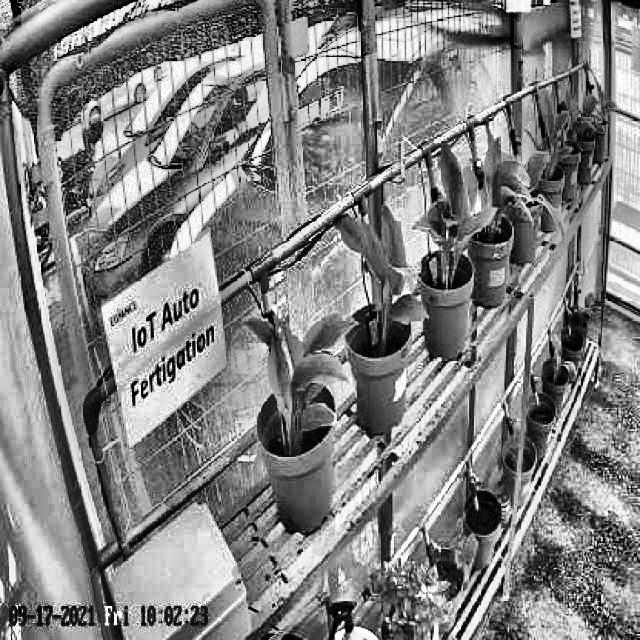plants: (243, 310, 354, 456), (332, 201, 428, 347), (410, 140, 496, 288), (467, 140, 533, 240)
